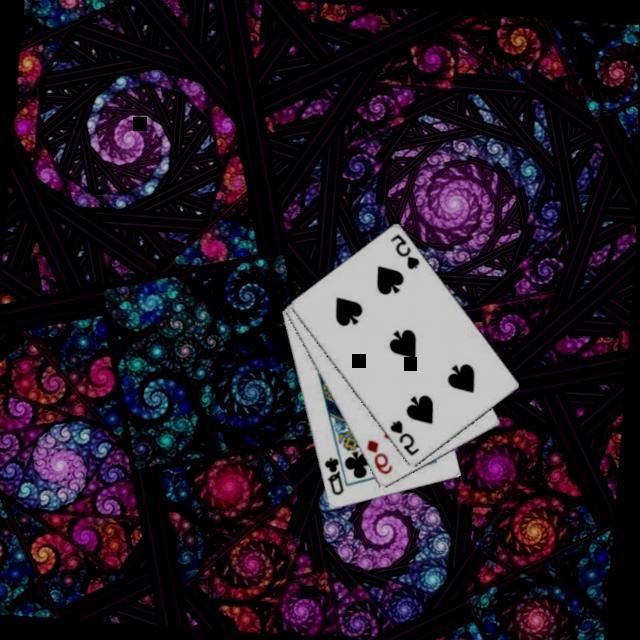5S: (384, 418, 423, 460), (384, 231, 423, 273)
6D: (360, 437, 396, 479)
QC: (318, 454, 348, 499)
